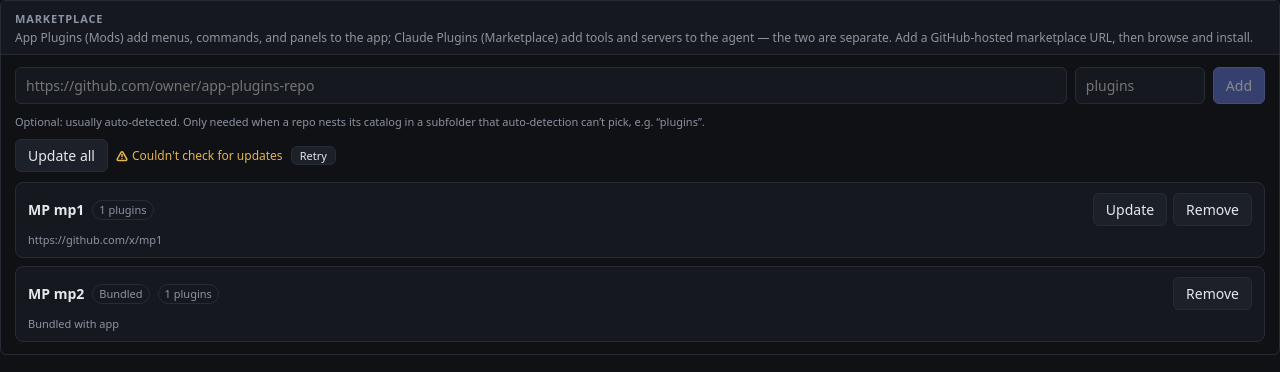
Scenario: AppPluginMarketplaceSection row Update control › surfaces a whole-check failure with a Retry instead of claiming everything is current
The image size is (1280, 372).
Click the button "Retry" at [313, 156], box [291, 146, 336, 165]
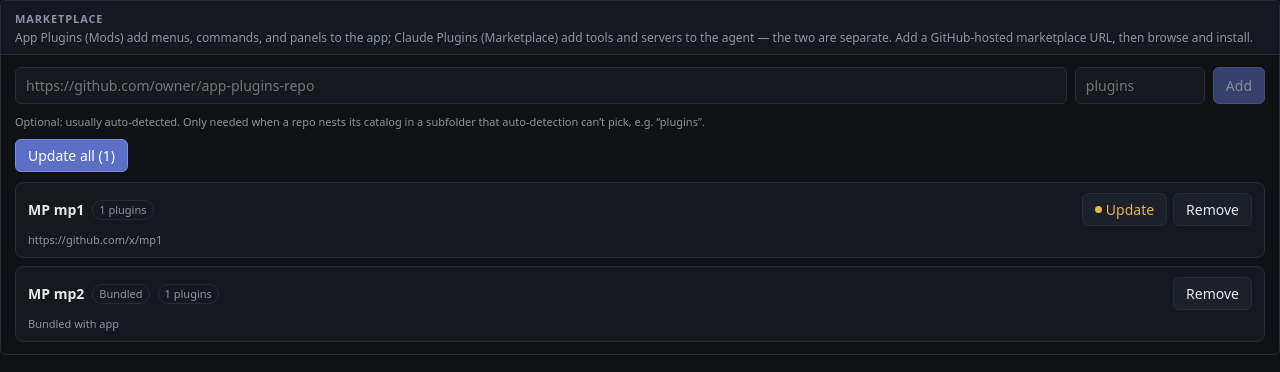
Check: the text "Update all (1)" is shown, box [15, 139, 128, 172]
